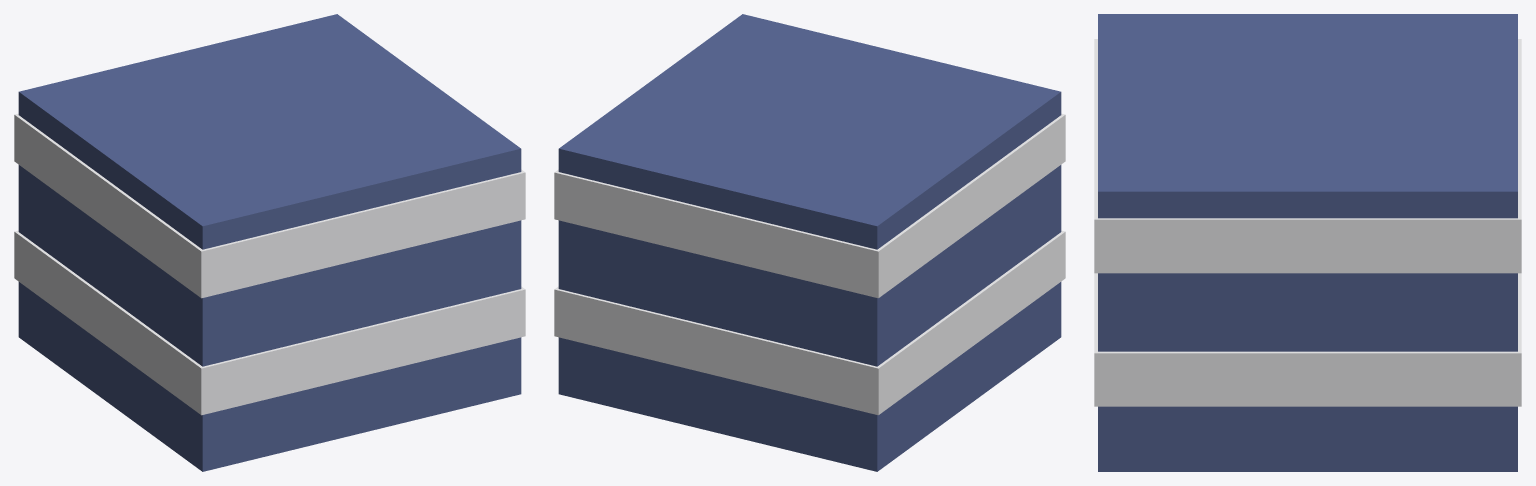
Rendered from marinheiro_listrado_manga_inf.glb.
3 renders of one model, left to right at view 1: azimuth 30°, elevation 25°; view 2: azimuth 150°, elevation 25°; view 3: azimuth 270°, elevation 25°, orthographic. The views are drawn at different scales.
Parts seen in each view (by area): view 1: marinheiro_listrado_manga_inf; view 2: marinheiro_listrado_manga_inf; view 3: marinheiro_listrado_manga_inf.
Part boxes in pixels (x1,y1,x2,y2): marinheiro_listrado_manga_inf: (14, 14, 525, 471); marinheiro_listrado_manga_inf: (554, 14, 1065, 471); marinheiro_listrado_manga_inf: (1094, 14, 1521, 471).
Bounding box in the file's own units: 0.29 × 0.21 × 0.29.
